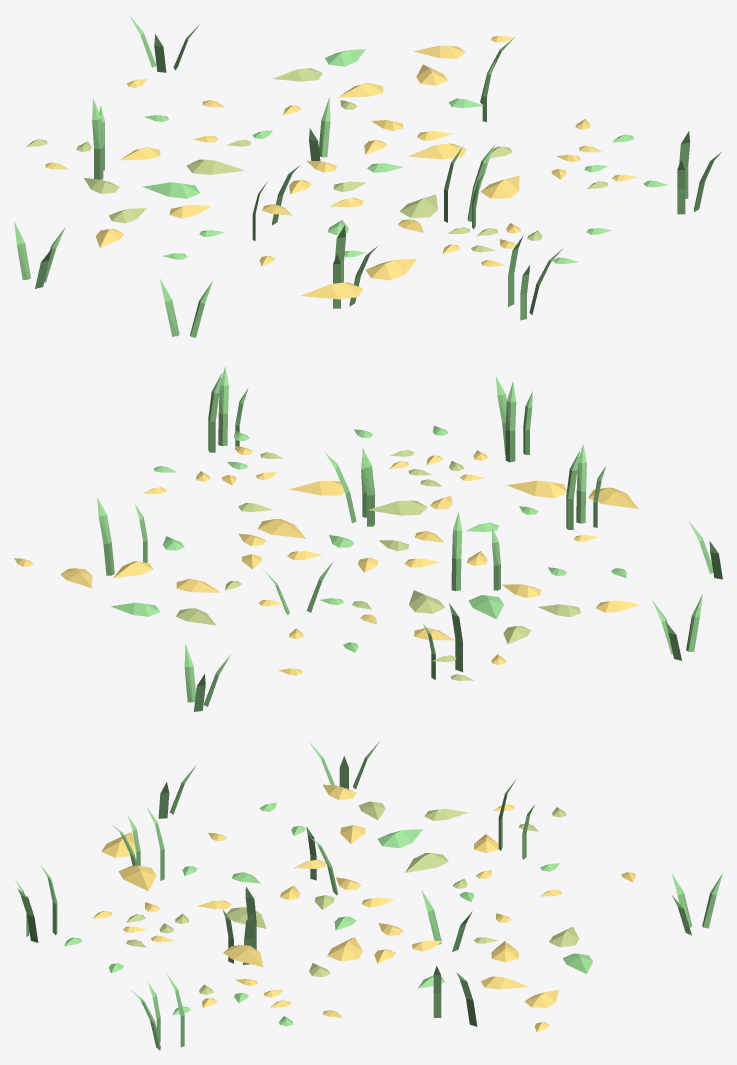
File: Leaves.fbx
3 renders of one model, top to bottom at view 1: azimuth 30°, elevation 25°; view 2: azimuth 150°, elevation 25°; view 3: azimuth 270°, elevation 25°, orthographic. The views are drawn at different scales.
Visible parts, largest first — view 1: Leaves; view 2: Leaves; view 3: Leaves.
Part boxes in pixels (bbox=[...]): Leaves: bbox=[14, 15, 722, 337]; Leaves: bbox=[14, 367, 722, 711]; Leaves: bbox=[15, 741, 722, 1050].
Bounding box in the file's own units: 5.21 × 0.7051 × 5.66.
